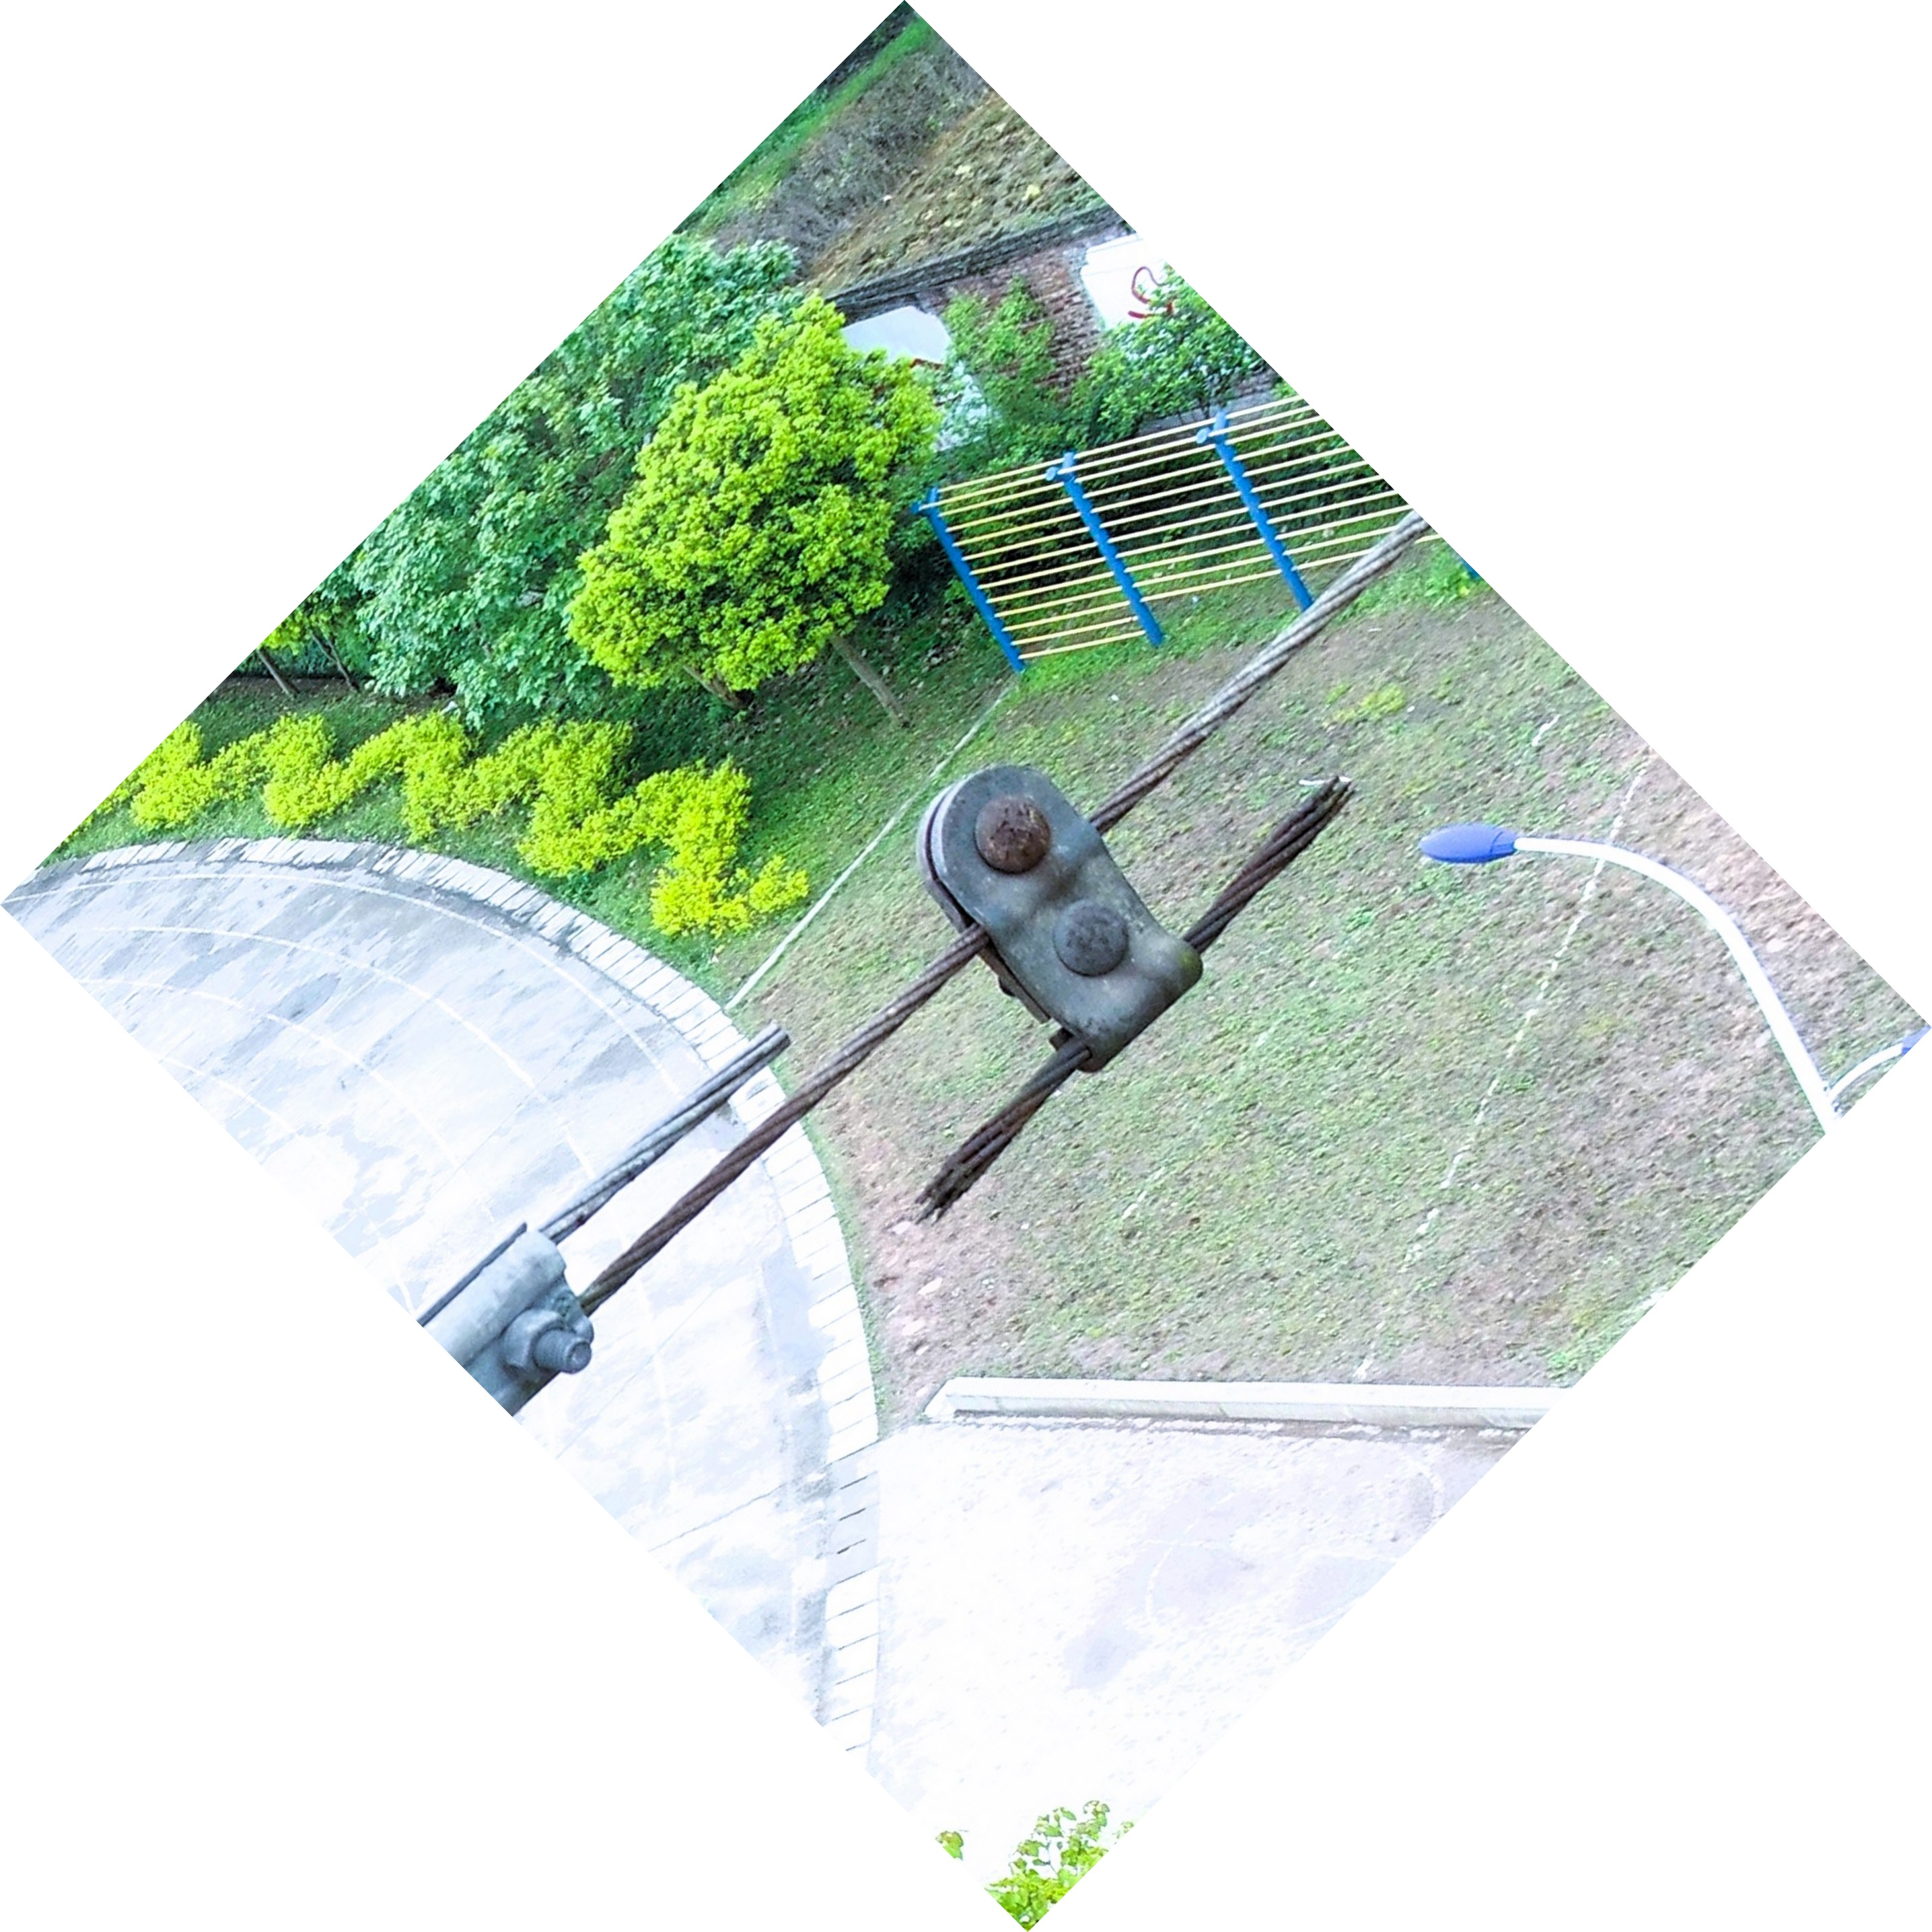Damage of shockproof hammer: (844, 706, 1389, 1238)
